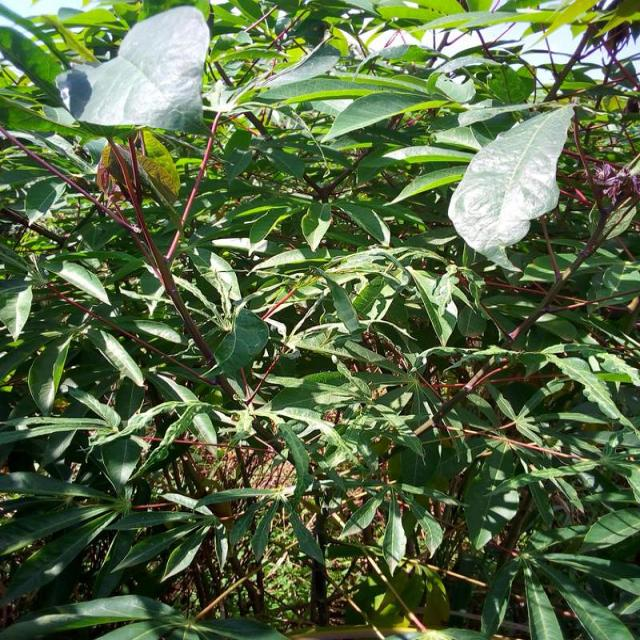cassava leaf: (448, 100, 577, 272), (56, 4, 212, 138)
